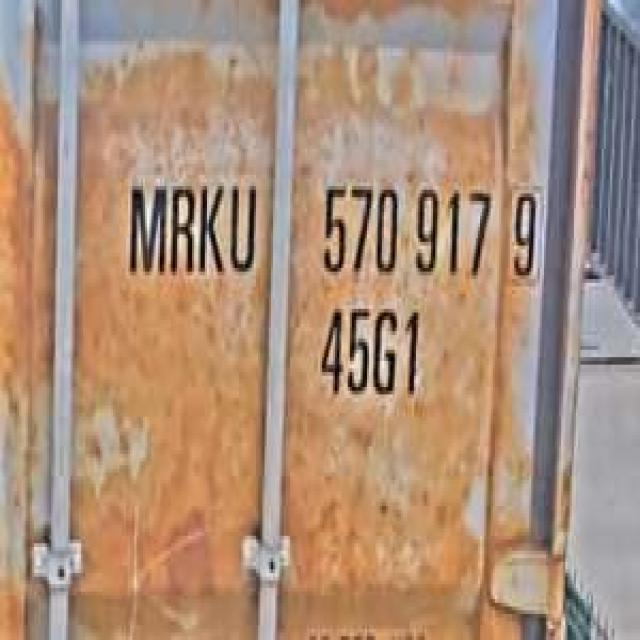dv: (501, 171, 546, 287)
owner: (124, 164, 260, 286)
serial: (314, 171, 495, 287)
size: (312, 294, 424, 409)
